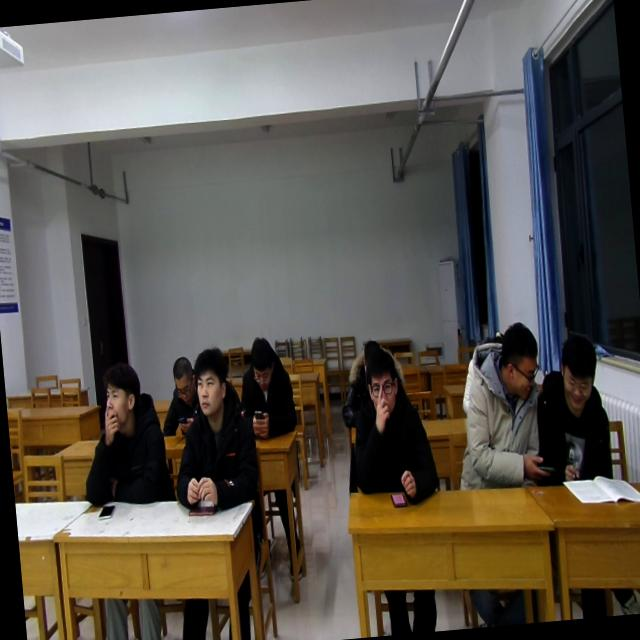bow: (237, 332, 300, 444), (335, 338, 408, 426)
down: (552, 329, 604, 413), (246, 328, 278, 393), (168, 352, 198, 406)
lookup: (358, 342, 406, 423), (188, 339, 235, 420), (96, 357, 144, 434)
sit: (446, 319, 549, 496), (162, 344, 262, 514), (72, 356, 176, 511), (341, 346, 441, 505), (528, 332, 616, 487), (153, 352, 203, 439)
